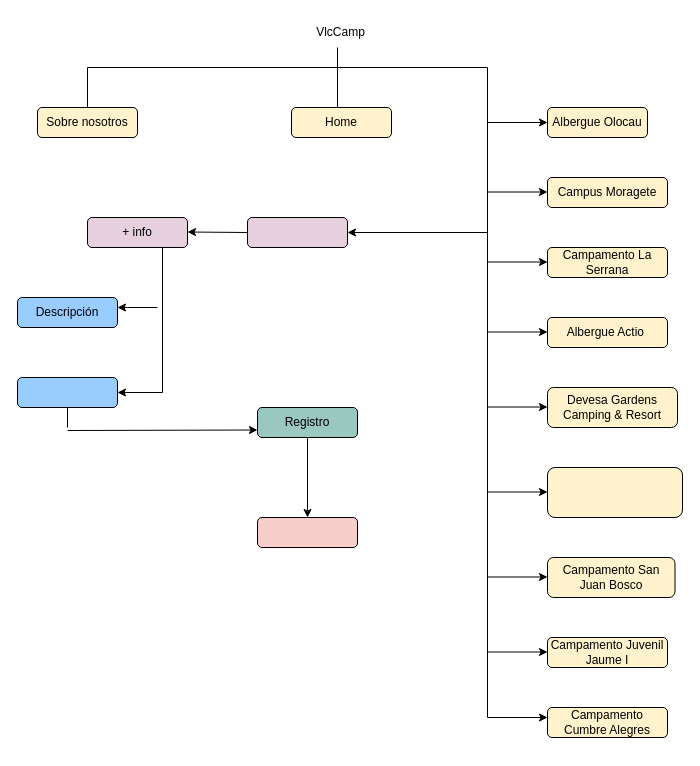
Some shapes in this 700 by 766 pixel diagram are drawn without their labels. Here are the shapes that lost their labels. From the top down, the centre of each, then its label:
the point at 297,232: Ubicación
the point at 67,392: Horario
the point at 614,492: Centro de vacaciones Embalse de Benagéber
the point at 307,532: Formulario
